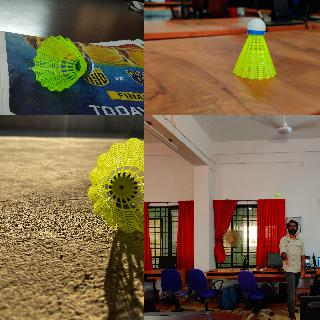shuttlecock: (87, 137, 143, 233), (33, 35, 93, 91), (232, 18, 276, 80), (273, 192, 279, 198)
